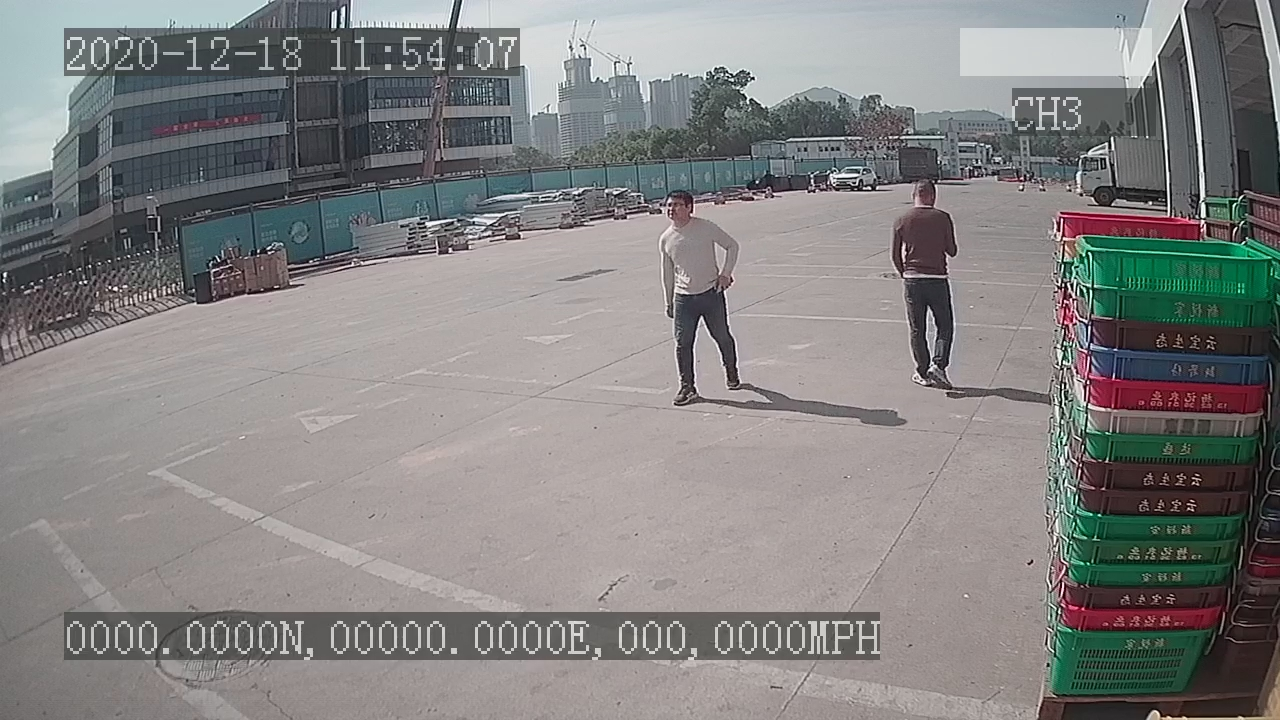person: (643, 185, 752, 403), (884, 172, 968, 403)
